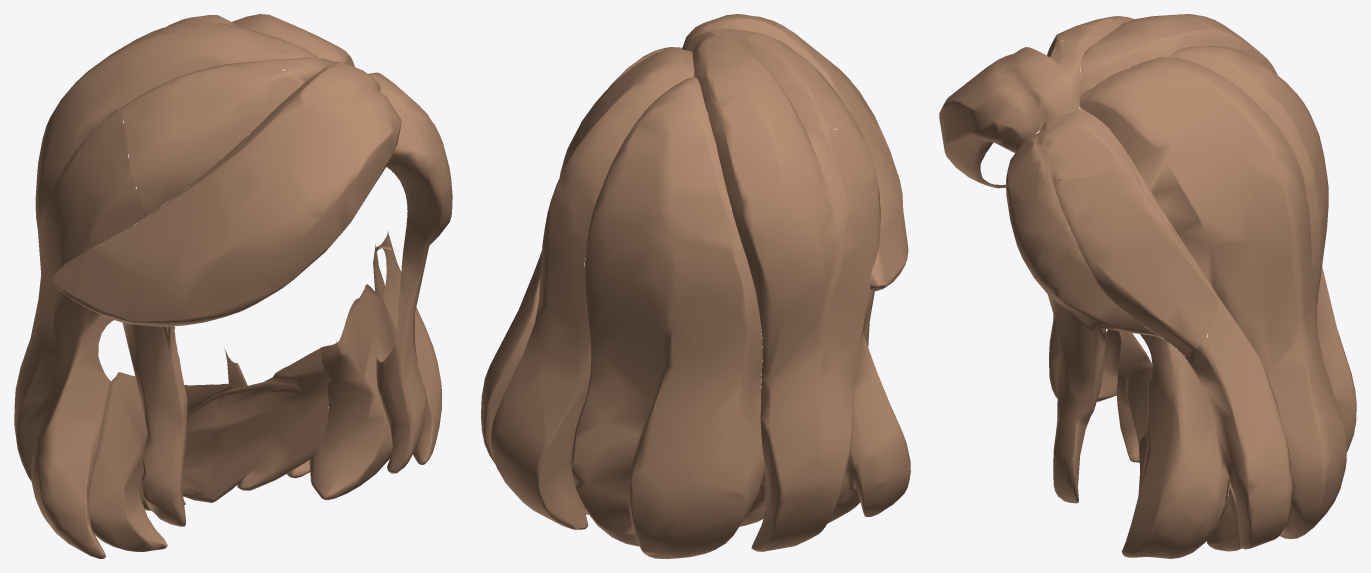
The model's file is hair_09.glb.
3 renders of one model, left to right at view 1: azimuth 30°, elevation 25°; view 2: azimuth 150°, elevation 25°; view 3: azimuth 270°, elevation 25°, orthographic. The views are drawn at different scales.
Visible parts, largest first — view 1: hair; view 2: hair; view 3: hair.
Part boxes in pixels (left/top/right/bottom): hair: left=14, top=14, right=452, bottom=558; hair: left=481, top=14, right=910, bottom=558; hair: left=939, top=14, right=1356, bottom=558.
Size of the model in its own units: 0.6126 by 0.7008 by 0.5627.
